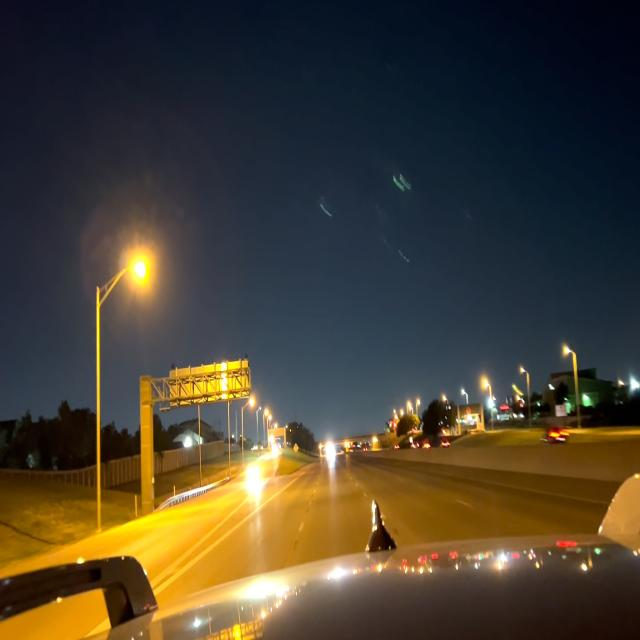back-of-sign: (168, 360, 252, 406)
